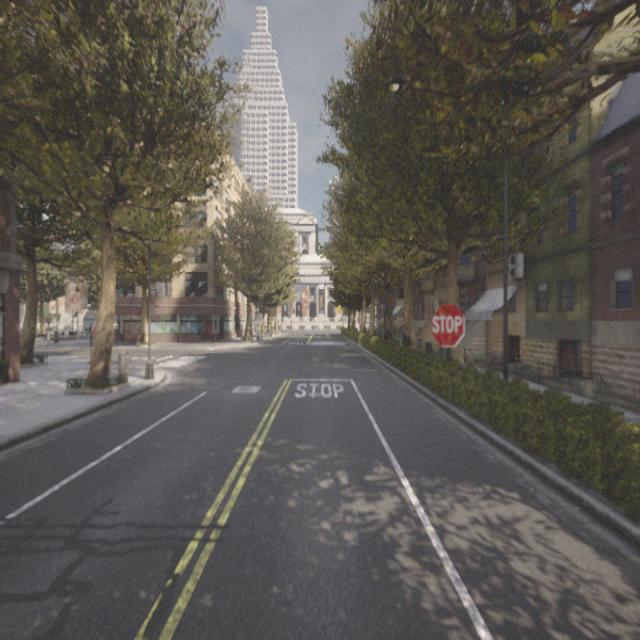stop sign: (429, 301, 466, 350), (432, 314, 463, 335)
